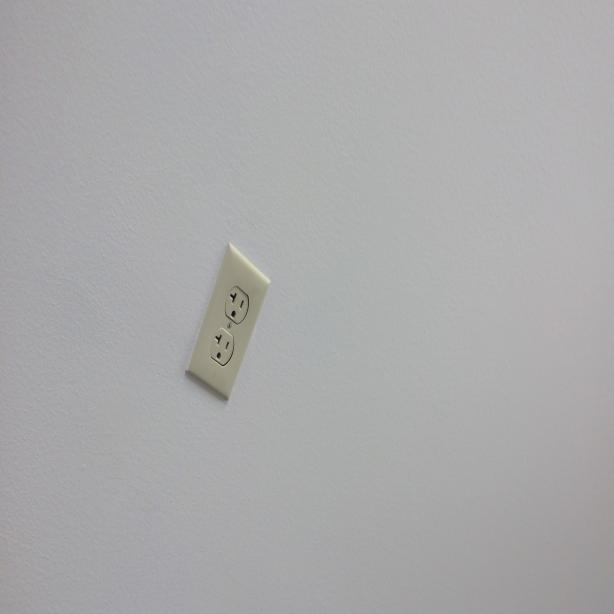typeb: (225, 284, 249, 322), (213, 327, 234, 365)
